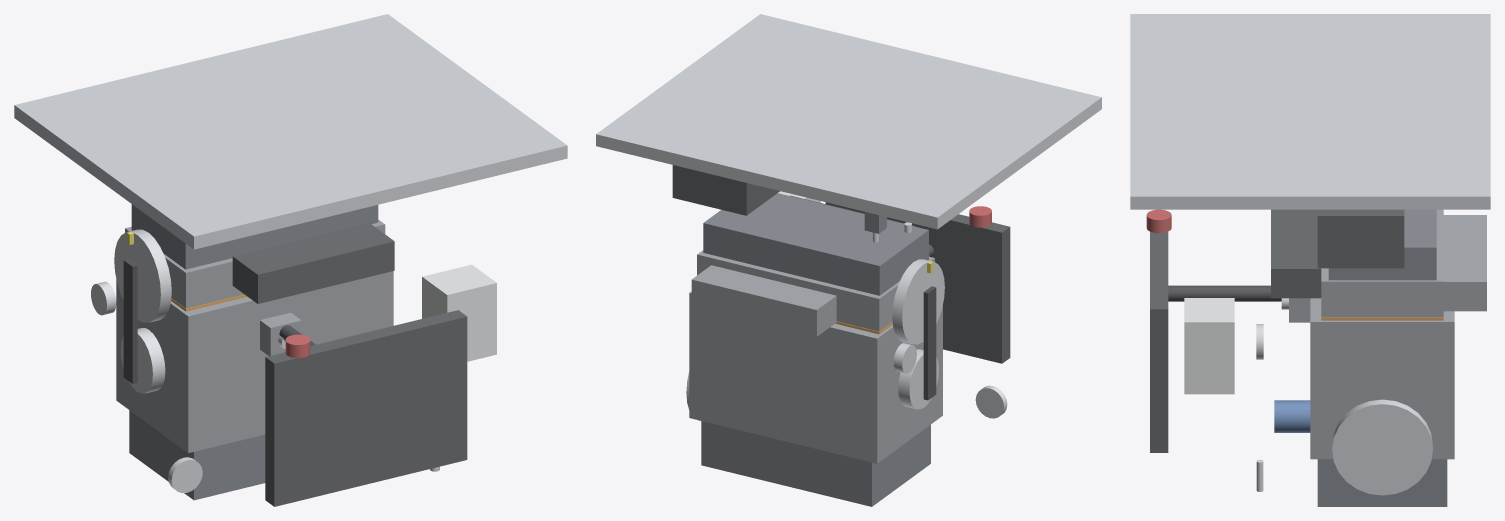
Rendered from motor-inline4.glb.
3 views of the same model, side by side, from view 1: azimuth 30°, elevation 25°; view 2: azimuth 150°, elevation 25°; view 3: azimuth 270°, elevation 25° (orthographic). The views are drawn at different scales.
Visible parts, largest first — view 1: kaput, radyator, blok, emme_manifoldu, karter, supap_kapagi, genlesme_deposu, kam_kasnagi, silindir_kapagi, triger_kayisi, krank_kasnagi, termostat_kapagi (+2 smaller); view 2: kaput, blok, supap_kapagi, karter, radyator, egzoz_manifoldu, silindir_kapagi, hava_filtre_kutusu, kam_kasnagi, triger_kayisi, krank_kasnagi, yag_basinc_manometresi (+1 smaller); view 3: kaput, blok, volan, silindir_kapagi, hava_filtre_kutusu, genlesme_deposu, emme_manifoldu, egzoz_manifoldu, radyator, karter, supap_kapagi, ust_hortum (+4 smaller).
Boxes of the visible parts, left/top/right/bottom form: kaput: left=14, top=14, right=567, bottom=249; radyator: left=265, top=310, right=467, bottom=506; blok: left=116, top=271, right=393, bottom=452; emme_manifoldu: left=232, top=223, right=394, bottom=303; karter: left=129, top=410, right=265, bottom=500; supap_kapagi: left=131, top=204, right=378, bottom=269; genlesme_deposu: left=422, top=264, right=496, bottom=361; kam_kasnagi: left=114, top=229, right=171, bottom=322; silindir_kapagi: left=125, top=219, right=385, bottom=308; triger_kayisi: left=123, top=259, right=137, bottom=383; krank_kasnagi: left=120, top=328, right=165, bottom=393; termostat_kapagi: left=260, top=312, right=301, bottom=355; kaput: left=596, top=14, right=1101, bottom=229; blok: left=689, top=291, right=942, bottom=463; supap_kapagi: left=703, top=193, right=928, bottom=295; karter: left=701, top=421, right=930, bottom=506; radyator: left=825, top=202, right=1010, bottom=363; egzoz_manifoldu: left=691, top=265, right=836, bottom=336; silindir_kapagi: left=697, top=250, right=934, bottom=331; hava_filtre_kutusu: left=672, top=165, right=779, bottom=215; kam_kasnagi: left=892, top=259, right=944, bottom=344; triger_kayisi: left=923, top=286, right=936, bottom=400; krank_kasnagi: left=898, top=349, right=938, bottom=409; yag_basinc_manometresi: left=975, top=385, right=1007, bottom=418; kaput: left=1130, top=14, right=1490, bottom=209; blok: left=1310, top=298, right=1454, bottom=459; volan: left=1332, top=399, right=1432, bottom=495; silindir_kapagi: left=1321, top=209, right=1443, bottom=317; hava_filtre_kutusu: left=1317, top=209, right=1404, bottom=268; genlesme_deposu: left=1184, top=298, right=1234, bottom=394; emme_manifoldu: left=1271, top=209, right=1321, bottom=298; egzoz_manifoldu: left=1443, top=215, right=1486, bottom=311; radyator: left=1150, top=231, right=1168, bottom=452; karter: left=1317, top=459, right=1447, bottom=506; supap_kapagi: left=1328, top=209, right=1436, bottom=280; ust_hortum: left=1168, top=285, right=1281, bottom=301.
Bounding box in the file's own units: 1.2 × 1.11 × 1.
